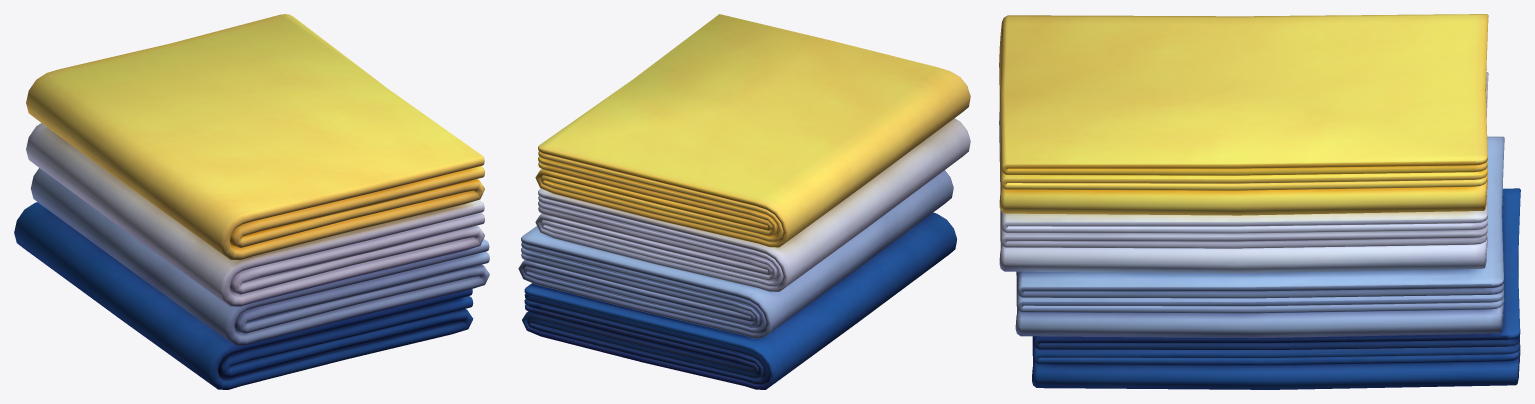
Rendered from fleece_blankets.gltf.
3 views of the same model, side by side, from view 1: azimuth 30°, elevation 25°; view 2: azimuth 150°, elevation 25°; view 3: azimuth 270°, elevation 25° (orthographic). The views are drawn at different scales.
Visible parts, largest first — view 1: warm blanket; view 2: warm blanket; view 3: warm blanket.
Boxes of the visible parts, x1,y1,x2,y2 form: warm blanket: [14, 14, 489, 389]; warm blanket: [518, 14, 970, 389]; warm blanket: [999, 14, 1520, 389].
Bounding box in the file's own units: 0.2465 × 0.16 × 0.3227.
1 material, 1 textured.
